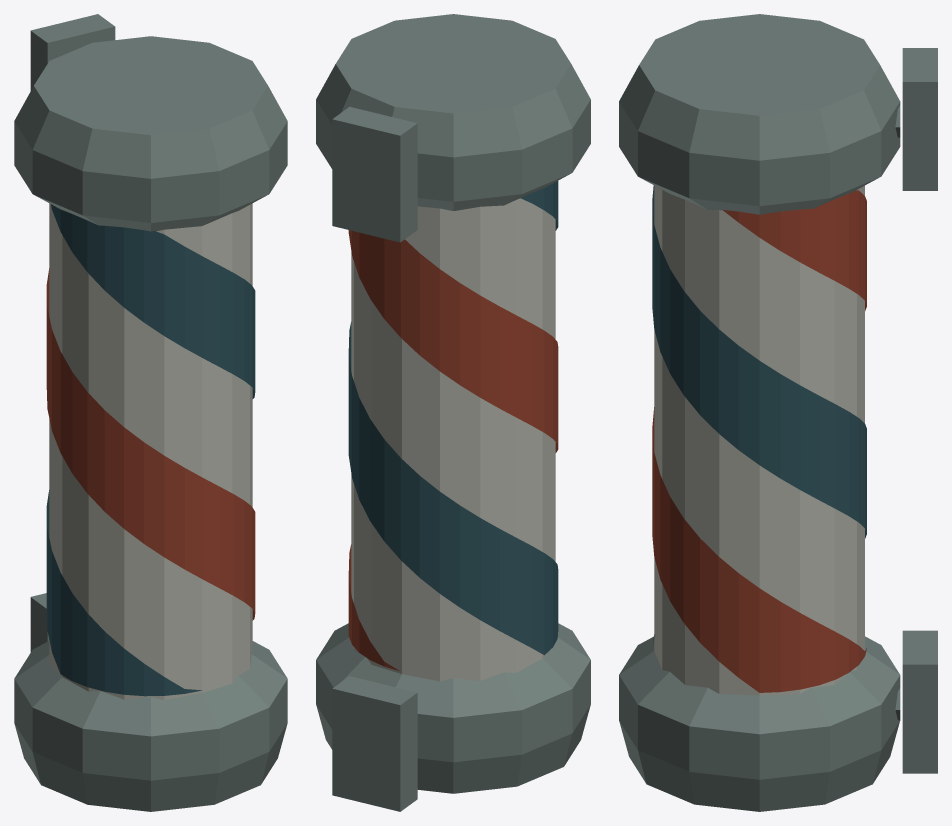
The picture shows the model from 3 angles, left to right: view 1: azimuth 30°, elevation 25°; view 2: azimuth 150°, elevation 25°; view 3: azimuth 270°, elevation 25°; orthographic projection. The views are drawn at different scales.
Visible parts, largest first — view 1: a198; view 2: a198; view 3: a198.
Part boxes in pixels (<box>): a198: <box>14,14,287,811</box>; a198: <box>316,14,590,811</box>; a198: <box>619,14,937,811</box>.
Bounding box in the file's own units: 0.28 × 0.76 × 0.3175.
